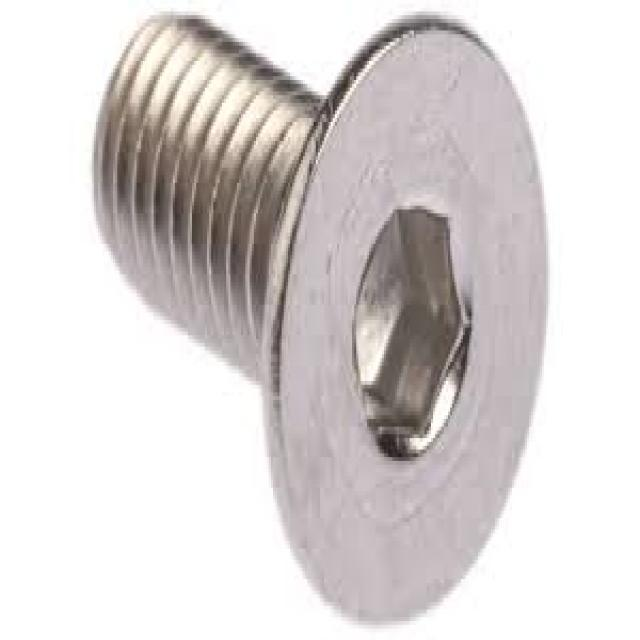Screw: (90, 11, 557, 629)
